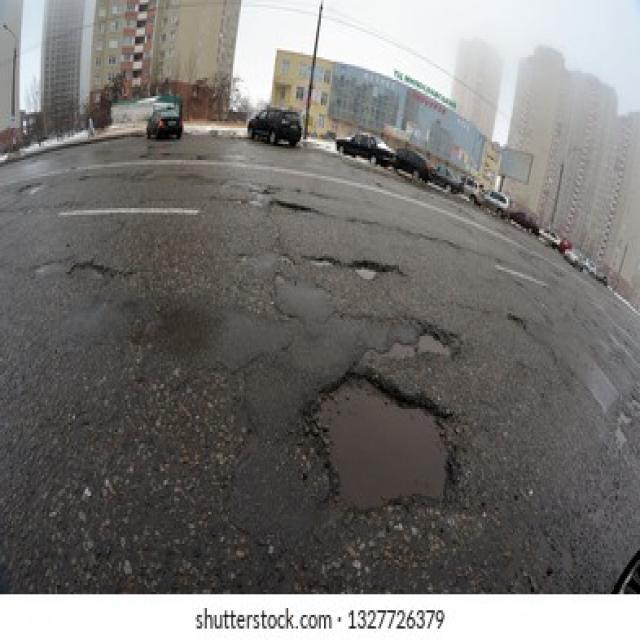Pothole: (303, 364, 458, 514), (413, 324, 462, 359), (348, 258, 409, 284), (66, 260, 108, 282), (268, 199, 312, 215), (306, 254, 339, 268), (508, 313, 524, 329)
